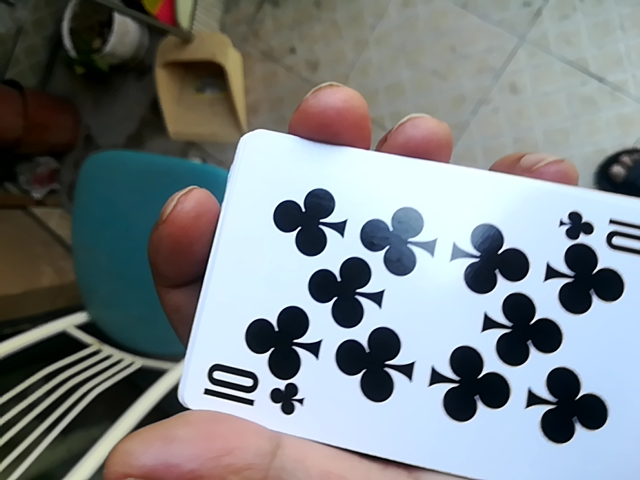mh 10: (154, 131, 638, 480)
